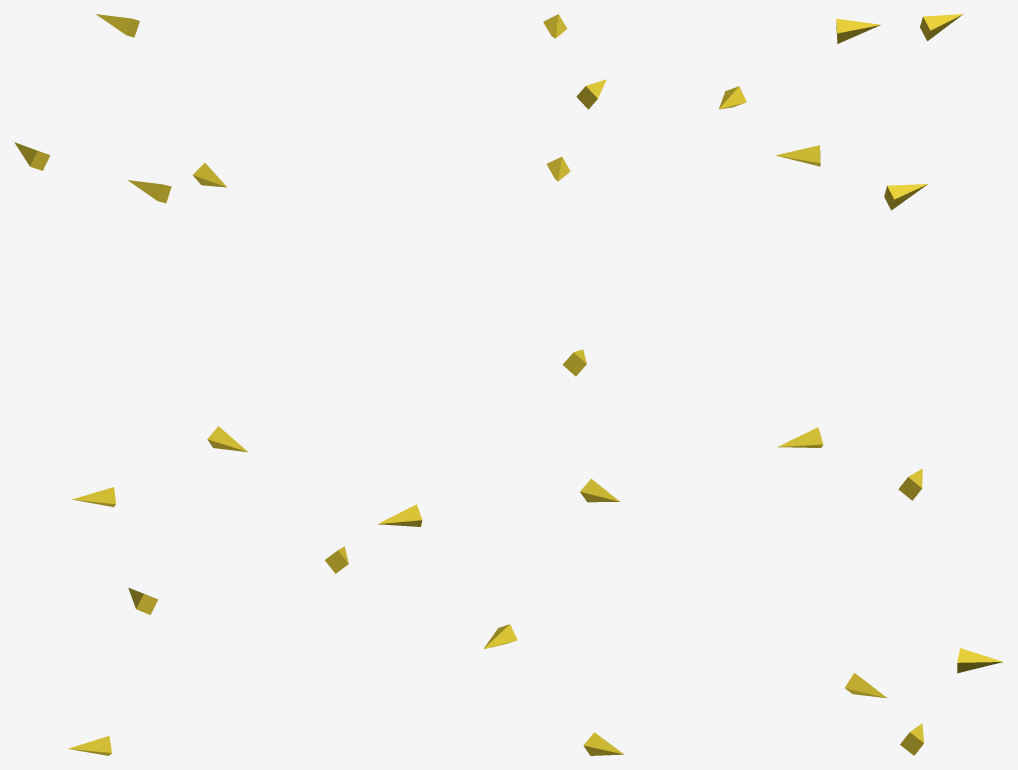
Rendered from KaktusUji7.glb.
3 renders of one model, left to right at view 1: azimuth 30°, elevation 25°; view 2: azimuth 150°, elevation 25°; view 3: azimuth 270°, elevation 25°, orthographic. The views are drawn at different scales.
Visible parts, largest first — view 1: no part large enough to name; view 2: no part large enough to name; view 3: Cone.008, Cone.004, Cone.010, Cone.011, Cone.005, Cone.006, Cone.007, Cone.003, Cone.009.
Boxes of the visible parts, x1,y1,x2,y2 form: Cone.008: [957, 648, 1003, 673]; Cone.004: [836, 18, 881, 43]; Cone.010: [884, 184, 927, 210]; Cone.011: [920, 14, 963, 40]; Cone.005: [775, 145, 820, 166]; Cone.006: [778, 427, 823, 447]; Cone.007: [845, 673, 887, 698]; Cone.003: [898, 468, 922, 500]; Cone.009: [900, 723, 923, 755].
Size of the model in its own units: 1.18 by 2.41 by 0.6645.
